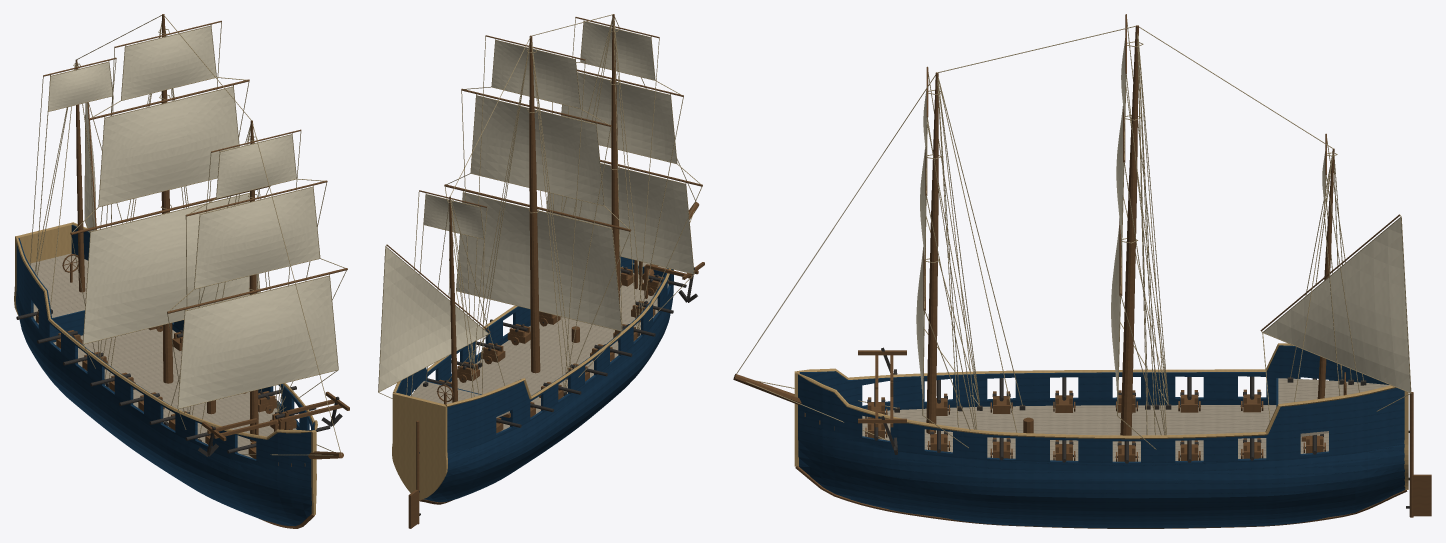
3 views of the same model, side by side, from view 1: azimuth 30°, elevation 25°; view 2: azimuth 150°, elevation 25°; view 3: azimuth 270°, elevation 25° (orthographic). The views are drawn at different scales.
Visible parts, largest first — view 1: lod1_hull_shell_starboard, lod1_fore_square_00, lod1_main_square_00, lod1_main_square_01, lod1_fore_square_01, lod1_main_deck, lod1_main_square_02, lod1_fore_square_02, lod1_castle_deck_0, lod1_mizzen_square_00, lod1_stern_closure, lod1_gunwale_starboard (+11 smaller); view 2: lod1_hull_shell_starboard, lod1_main_square_00, lod1_main_square_01, lod1_fore_square_00, lod1_mizzen_lateen_01, lod1_main_deck, lod1_fore_square_01, lod1_stern_closure, lod1_main_square_02, lod1_fore_square_02, lod1_main, lod1_hull_shell_port (+14 smaller); view 3: lod1_hull_shell_port, lod1_mizzen_lateen_01, lod1_hull_shell_starboard, lod1_main_deck, lod1_main, lod1_fore, lod1_gunwale_port, lod1_castle_deck_0, lod1_gunwale_starboard, lod1_keel, lod1_main_square_00, lod1_mizzen (+1 smaller).
Part boxes in pixels (box(x1,y1,x2,y2)): lod1_hull_shell_starboard: box(16, 238, 311, 526); lod1_fore_square_00: box(178, 276, 337, 408); lod1_main_square_00: box(83, 193, 259, 343); lod1_main_square_01: box(99, 87, 238, 206); lod1_fore_square_01: box(194, 187, 319, 288); lod1_main_deck: box(33, 303, 296, 457); lod1_main_square_02: box(121, 26, 216, 99); lod1_fore_square_02: box(217, 135, 296, 197); lod1_castle_deck_0: box(29, 253, 88, 317); lod1_mizzen_square_00: box(48, 62, 112, 111); lod1_stern_closure: box(14, 222, 72, 315); lod1_gunwale_starboard: box(15, 236, 312, 439); lod1_hull_shell_starboard: box(423, 268, 673, 502); lod1_main_square_00: box(456, 193, 621, 330); lod1_main_square_01: box(471, 96, 603, 205); lod1_fore_square_00: box(547, 164, 693, 273); lod1_mizzen_lateen_01: box(378, 247, 487, 391); lod1_main_deck: box(451, 273, 668, 430); lod1_fore_square_01: box(561, 73, 676, 163); lod1_stern_closure: box(392, 392, 447, 499); lod1_main_square_02: box(492, 40, 580, 108); lod1_fore_square_02: box(580, 22, 654, 79); lod1_main: box(529, 35, 540, 373); lod1_hull_shell_port: box(396, 256, 638, 395); lod1_hull_shell_port: box(798, 374, 1405, 528); lod1_mizzen_lateen_01: box(1263, 218, 1410, 392); lod1_hull_shell_starboard: box(799, 345, 1388, 410); lod1_main_deck: box(862, 405, 1328, 461); lod1_main: box(1120, 25, 1138, 435); lod1_fore: box(926, 72, 938, 433); lod1_gunwale_port: box(797, 373, 1396, 439); lod1_castle_deck_0: box(1278, 378, 1390, 436); lod1_gunwale_starboard: box(797, 343, 1293, 379); lod1_keel: box(795, 466, 1407, 528); lod1_main_square_00: box(1111, 225, 1120, 399); lod1_mizzen: box(1317, 148, 1334, 398).
Bounding box in the file's own units: 9.21 × 19.61 × 24.65.
7 materials, 7 textured.
